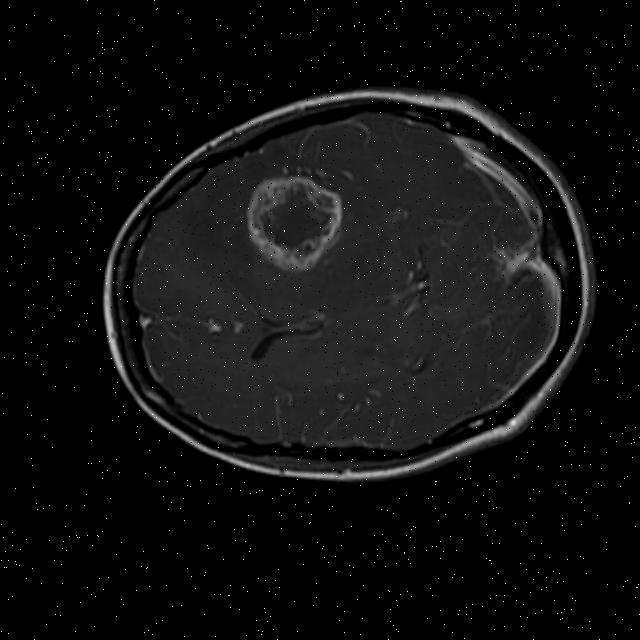Glioma: (238, 163, 353, 280)
